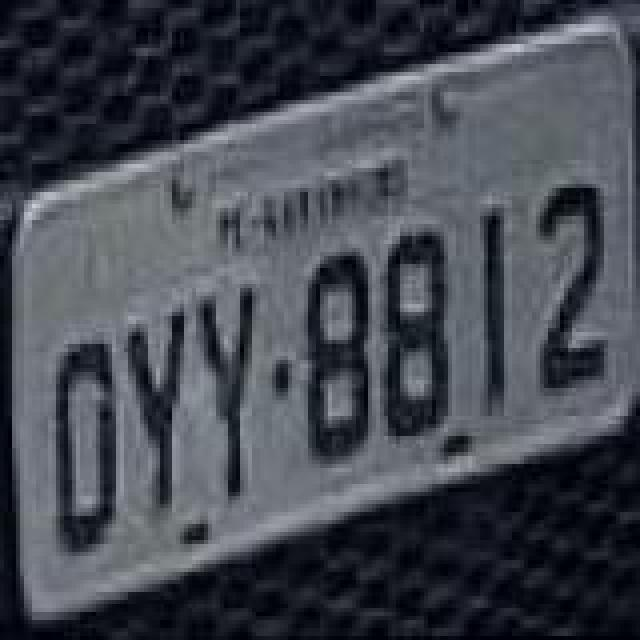1: (480, 204, 512, 432)
2: (532, 184, 612, 400)
8: (298, 248, 374, 468), (378, 226, 454, 442)
O: (52, 334, 124, 562)
Y: (192, 284, 256, 504), (124, 310, 188, 514)
